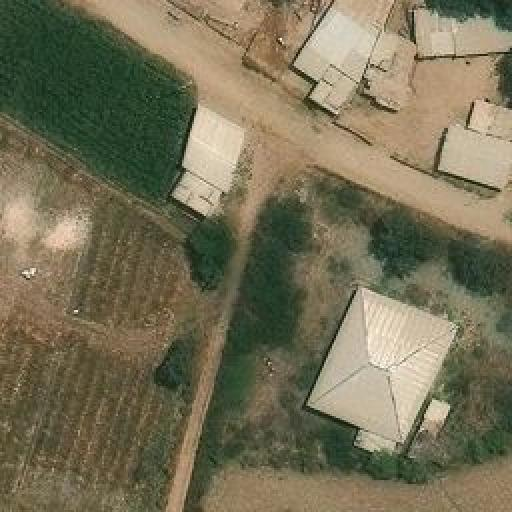manzanas: (273, 0, 510, 197), (288, 280, 468, 472), (164, 99, 253, 231)
